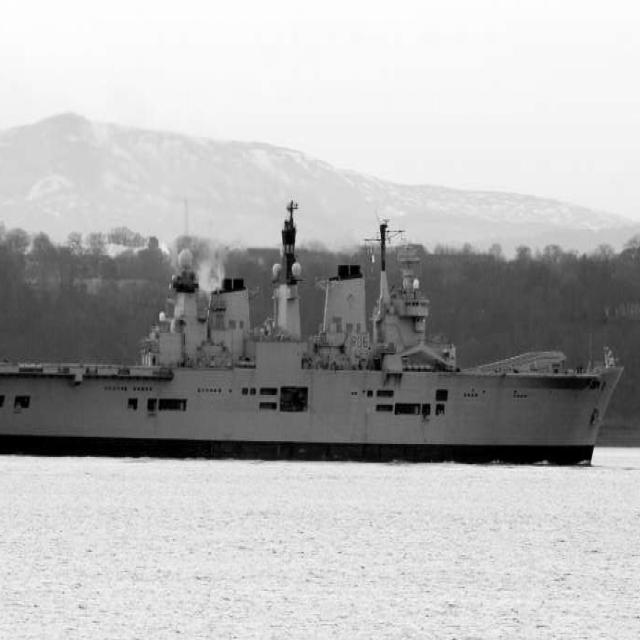Portanaves: (1, 181, 635, 464)
